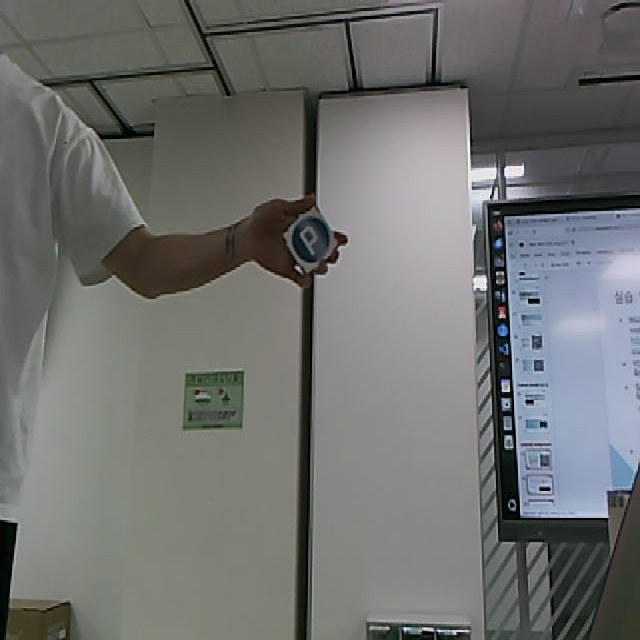parking: (282, 204, 339, 275)
